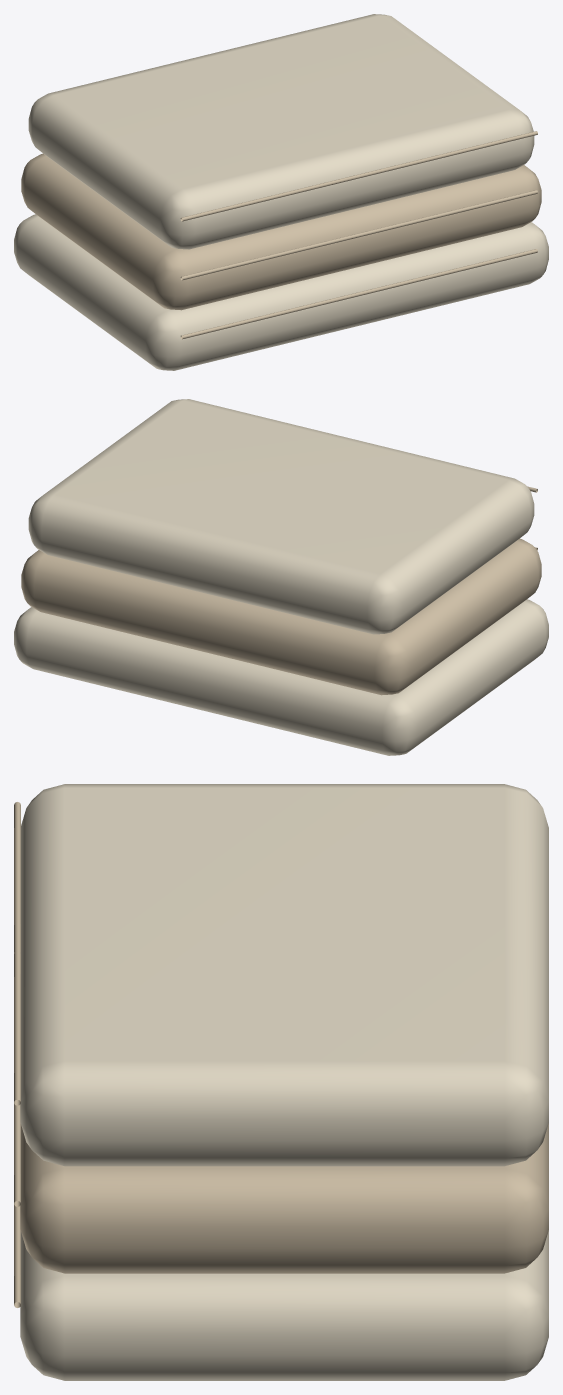
File: bath-linen.glb
3 views of the same model, one above another, from view 1: azimuth 30°, elevation 25°; view 2: azimuth 150°, elevation 25°; view 3: azimuth 270°, elevation 25° (orthographic). The views are drawn at different scales.
Visible parts, largest first — view 1: Mood stoneware chalk, Mood linen oat; view 2: Mood stoneware chalk, Mood linen oat; view 3: Mood stoneware chalk, Mood linen oat.
Part boxes in pixels (box(x1,y1,x2,y2)): Mood stoneware chalk: box(14, 14, 548, 370); Mood linen oat: box(21, 131, 541, 339); Mood stoneware chalk: box(14, 399, 548, 755); Mood linen oat: box(21, 486, 541, 695); Mood stoneware chalk: box(20, 784, 548, 1380); Mood linen oat: box(14, 802, 548, 1307).
Bounding box in the file's own units: 0.27 × 0.114 × 0.1822.
